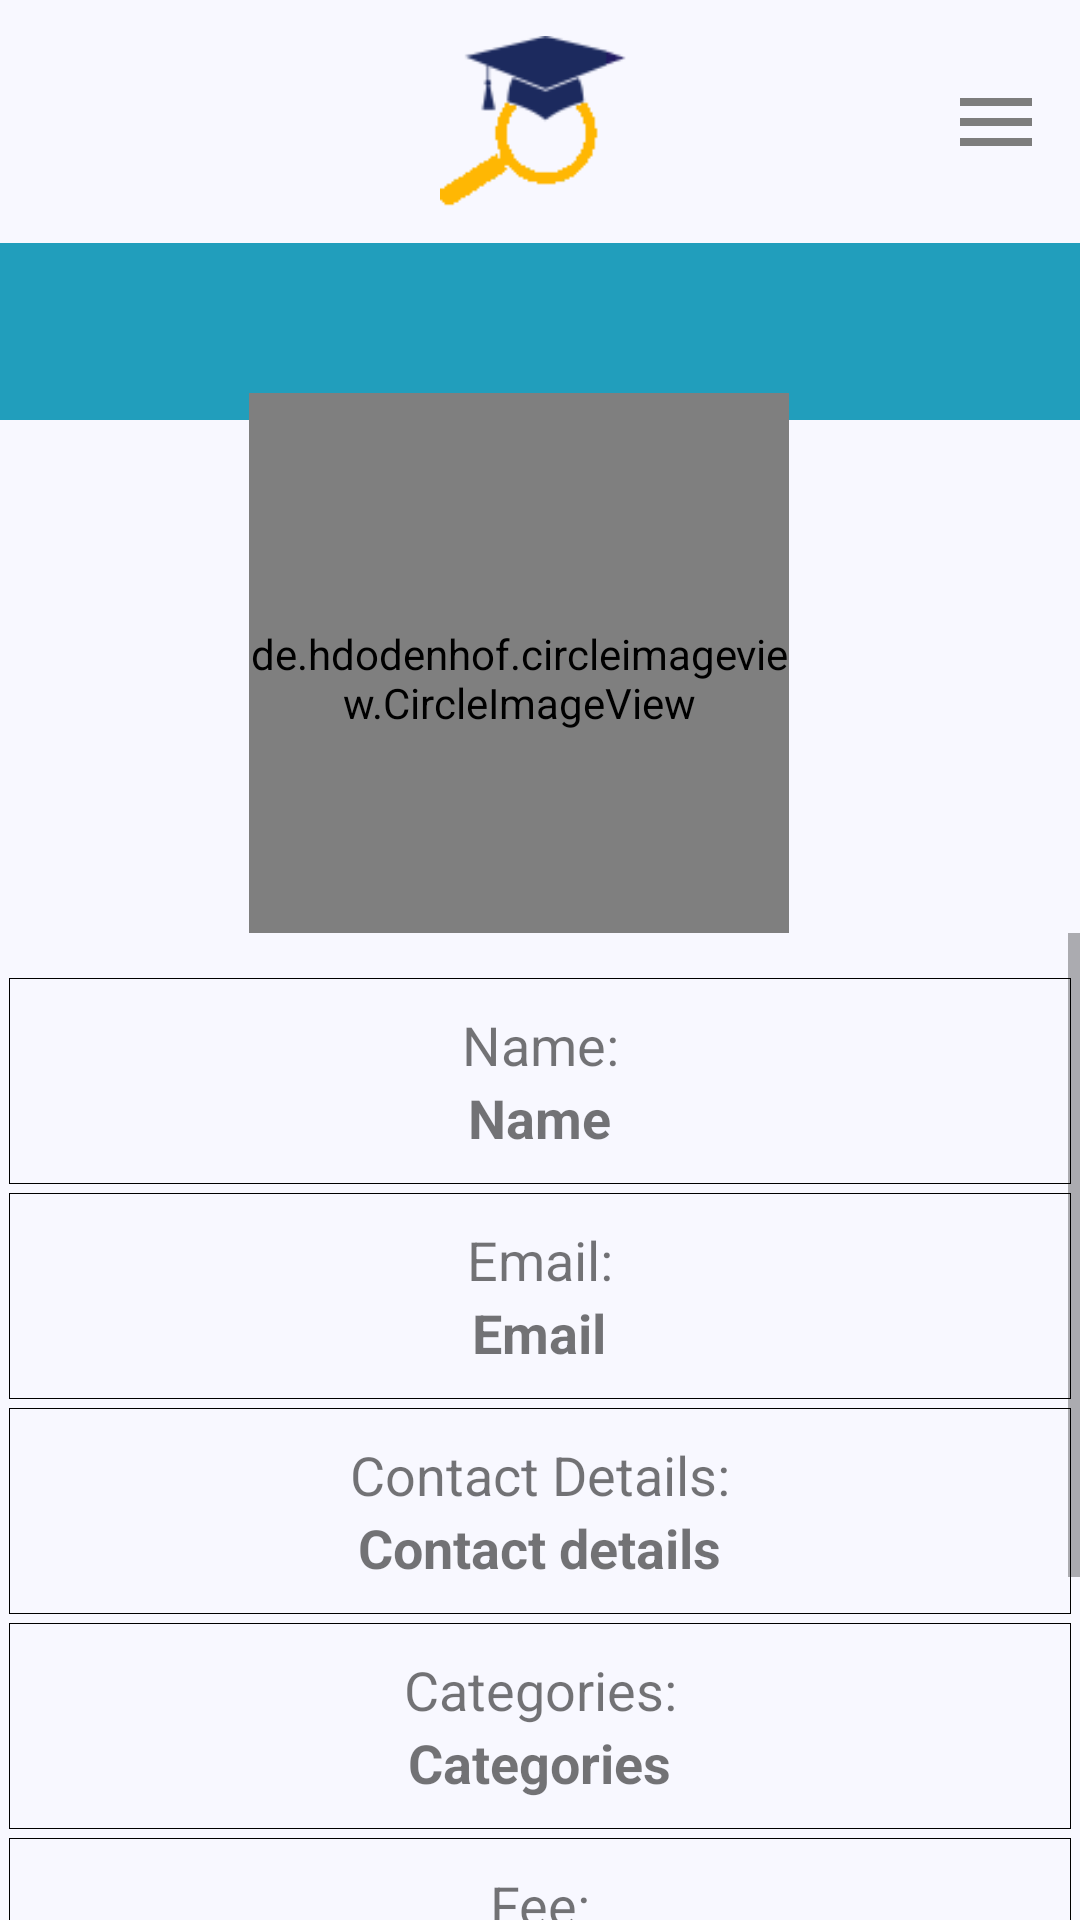

Icon click points for this 1080w x 1920h phone screenshot, format (x,y):
menu: (996,122)
tutor: (532,121)
